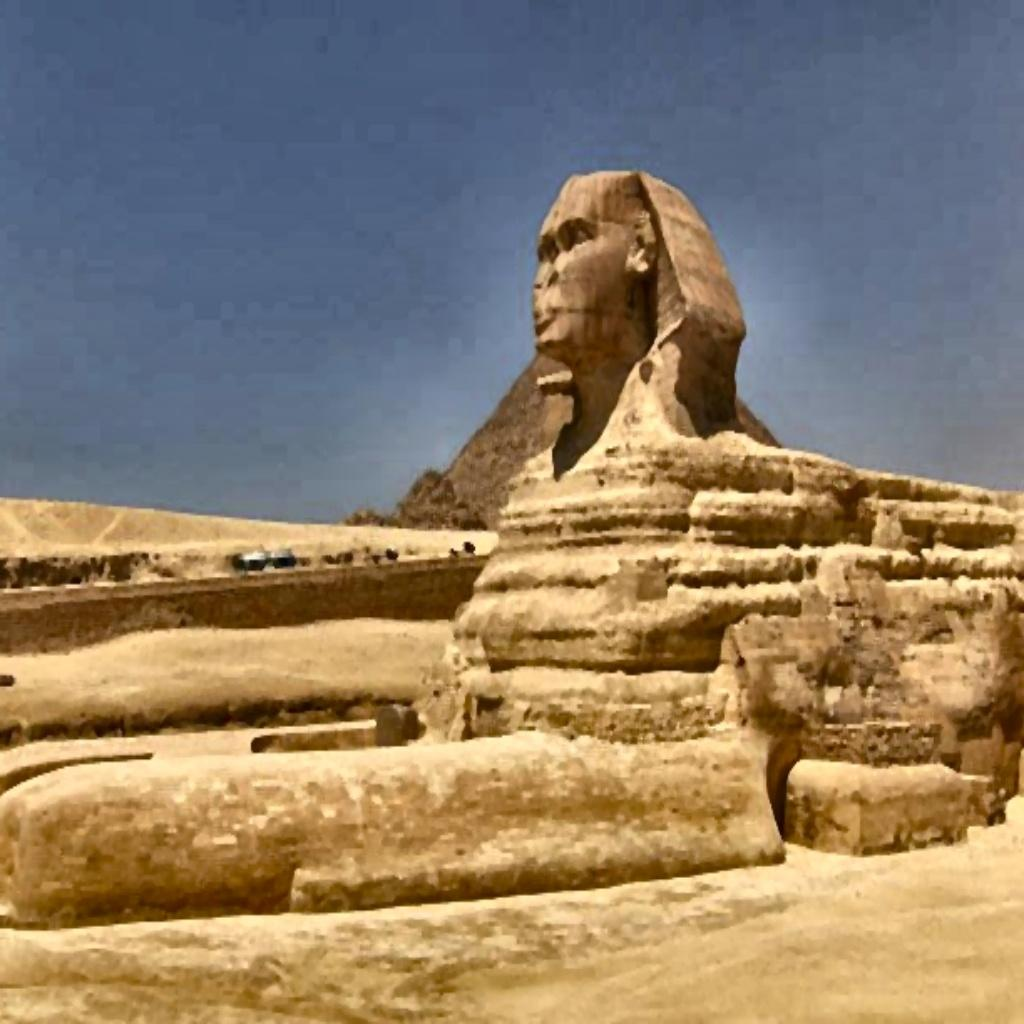Sphinx: (527, 164, 780, 471)
